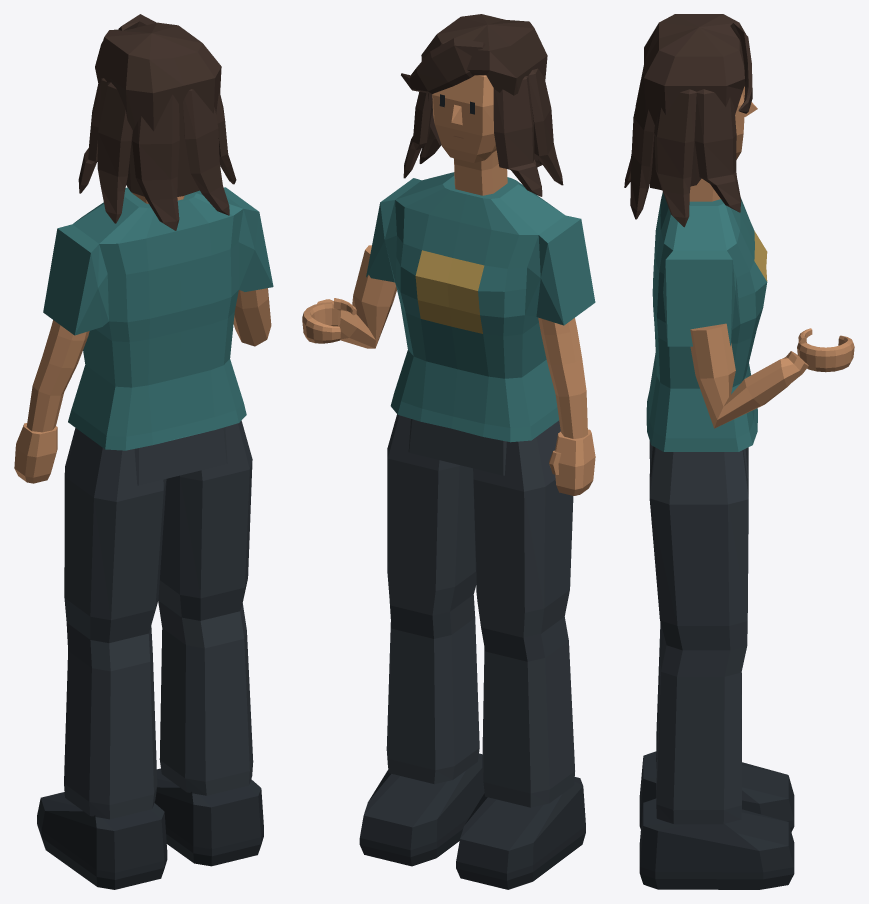
The model's file is lwf_attendee_female_drink_hold_v1.glb.
The picture shows the model from 3 angles, left to right: view 1: azimuth 30°, elevation 25°; view 2: azimuth 150°, elevation 25°; view 3: azimuth 270°, elevation 25°; orthographic projection.
Parts seen in each view (by area): view 1: Attendee_female_drink_hold; view 2: Attendee_female_drink_hold; view 3: Attendee_female_drink_hold.
Boxes of the visible parts, x1,y1,x2,y2 form: Attendee_female_drink_hold: (14, 14, 273, 889); Attendee_female_drink_hold: (302, 14, 595, 889); Attendee_female_drink_hold: (624, 14, 854, 889).
Bounding box in the file's own units: 0.552 × 1.75 × 0.4458.
Materials: 1 (1 with a texture image).
